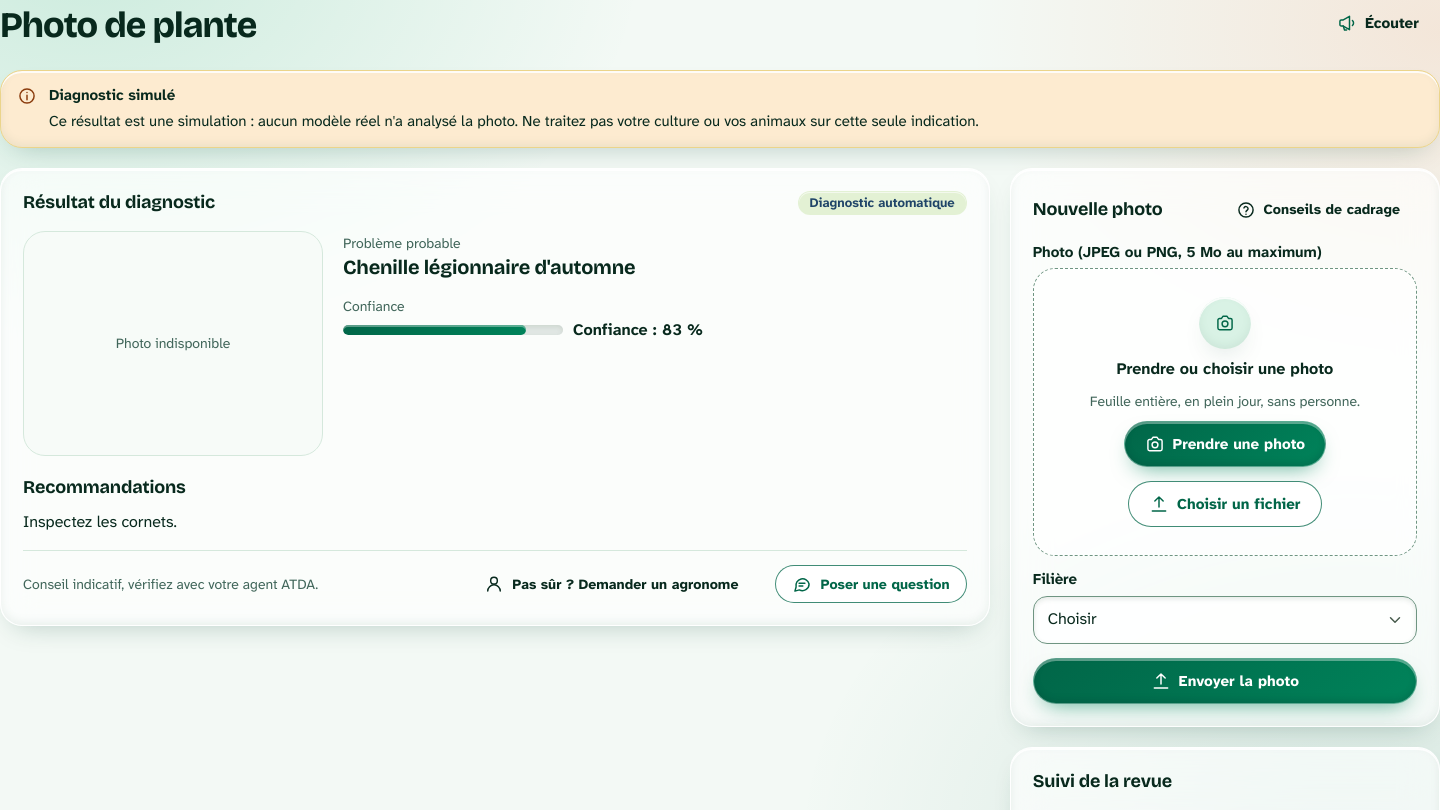
Test: Diagnostic par photo › producteur : « Pas sûr ? » envoie la demande avec son mot, puis le diagnostic part chez l'agronome
Click the button "Pas sûr ? Demander un agronome".
click(611, 584)  # box [467, 565, 756, 603]
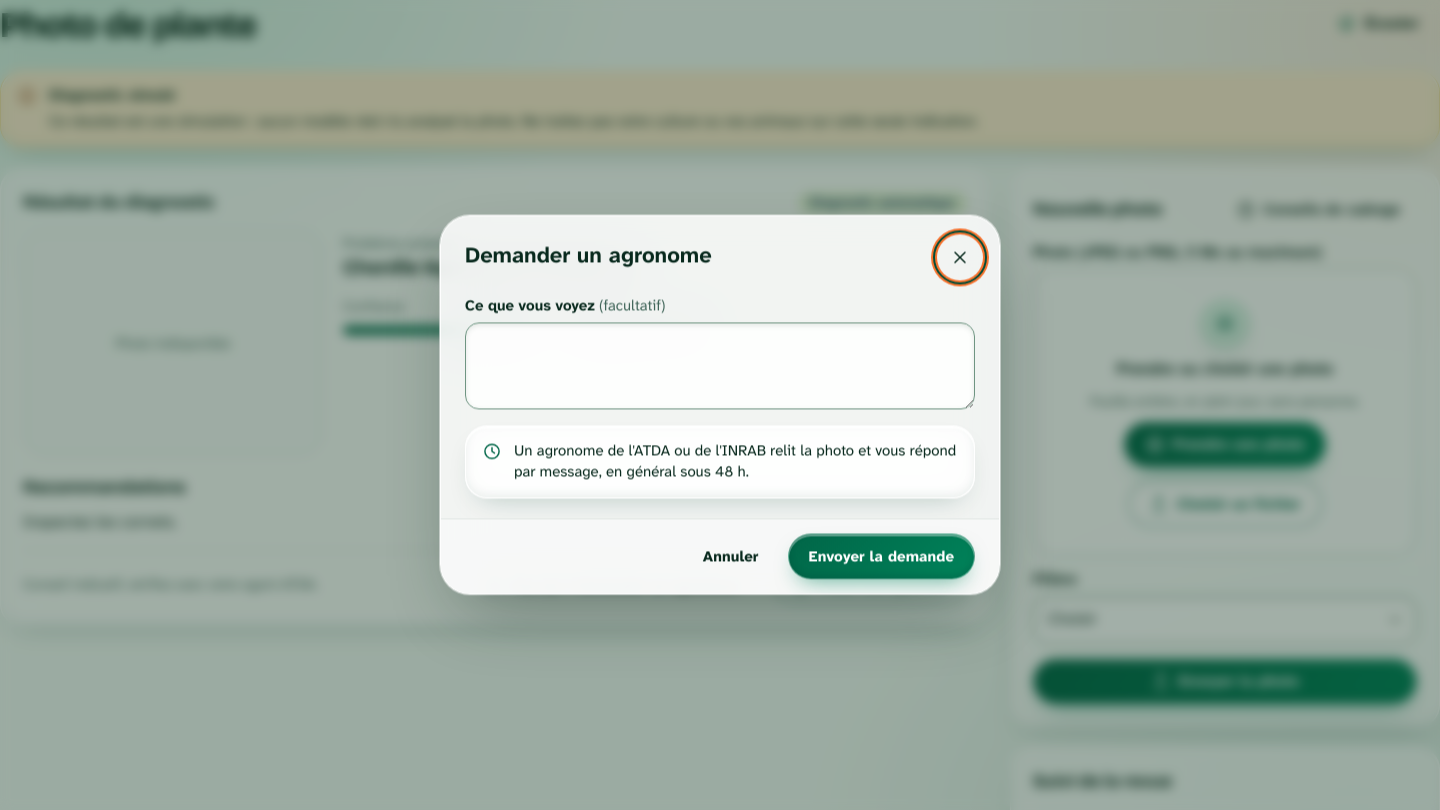
Type "Les feuilles du centre sont trouées." into the text box labelled "Ce que vous voyez (facultatif)".
click(720, 366); type("Les feuilles du centre sont trouées.")  # box [465, 322, 975, 409]
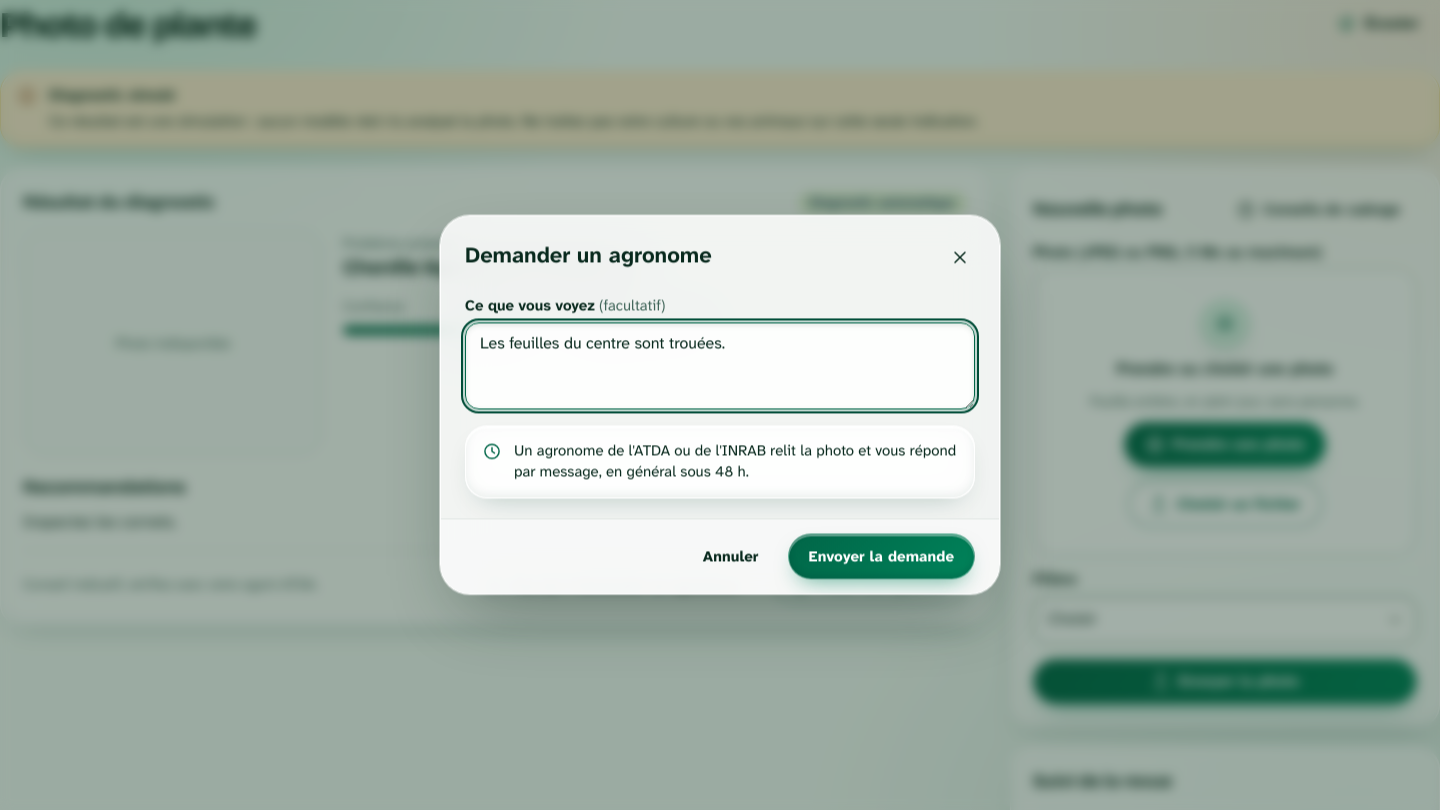
Click the button "Envoyer la demande".
click(881, 557)  # box [788, 534, 975, 580]
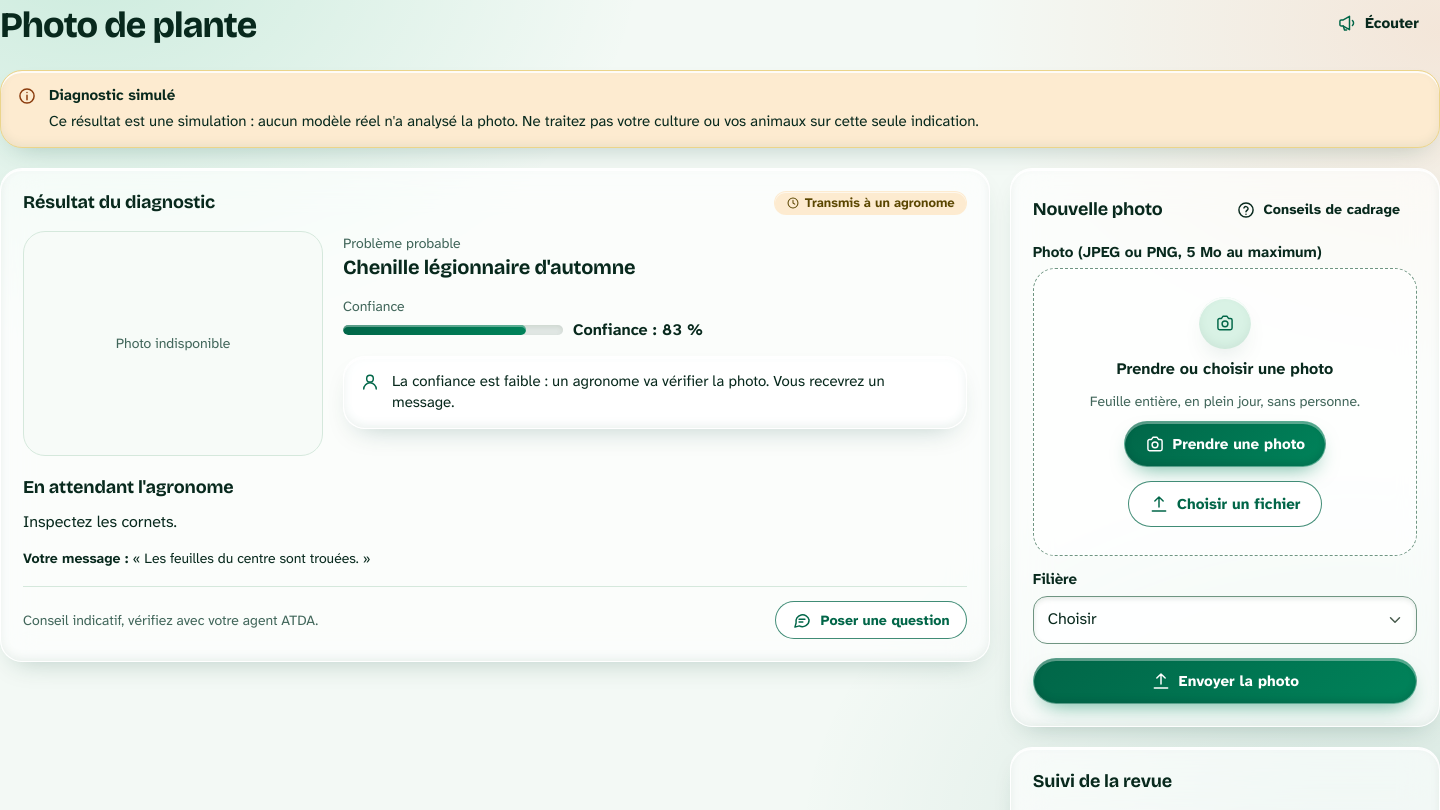
Check: the button "Pas sûr ? Demander un agronome" is gone
Check: the text "Votre message : « Les feuilles du centre sont trouées. »" is shown, box [23, 549, 371, 567]
